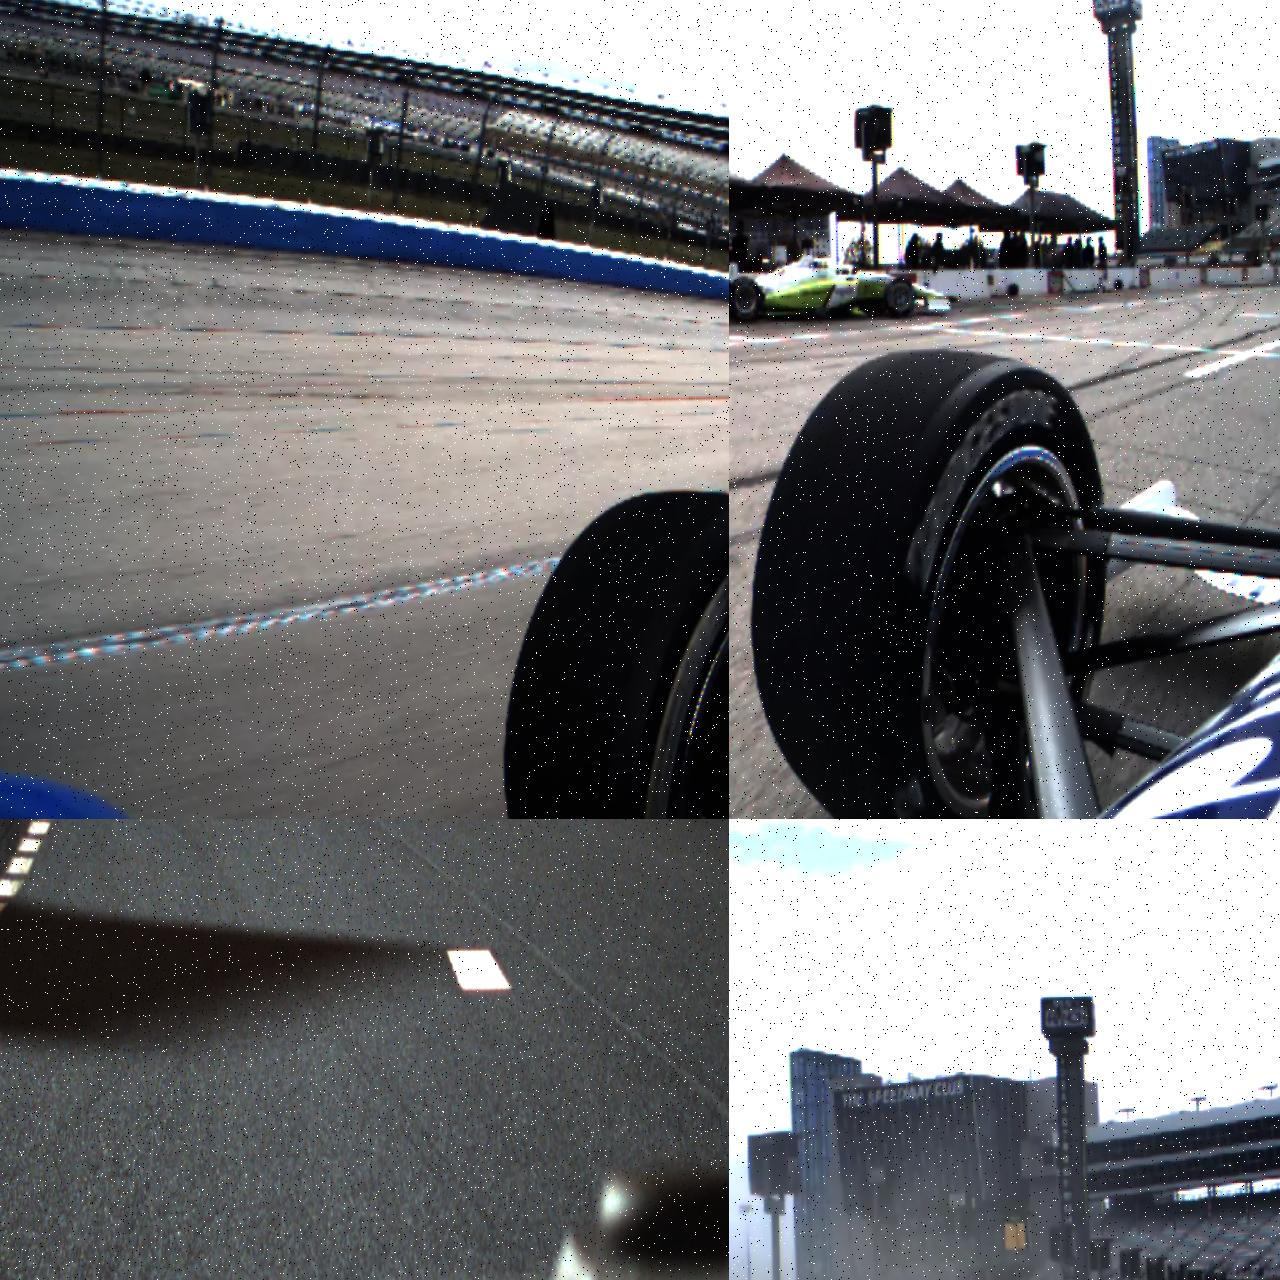AV: (729, 234, 956, 321)
Wheel: (747, 347, 1115, 819), (498, 486, 729, 819), (729, 275, 762, 322), (885, 278, 914, 316)
